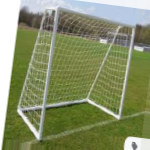goals: (16, 6, 139, 141)
